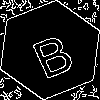B: (25, 25, 78, 80)
